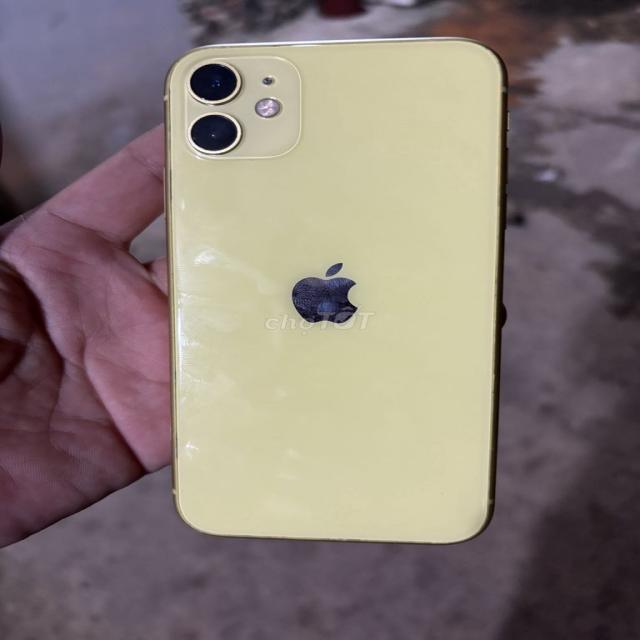gen_11: (155, 35, 531, 550)
